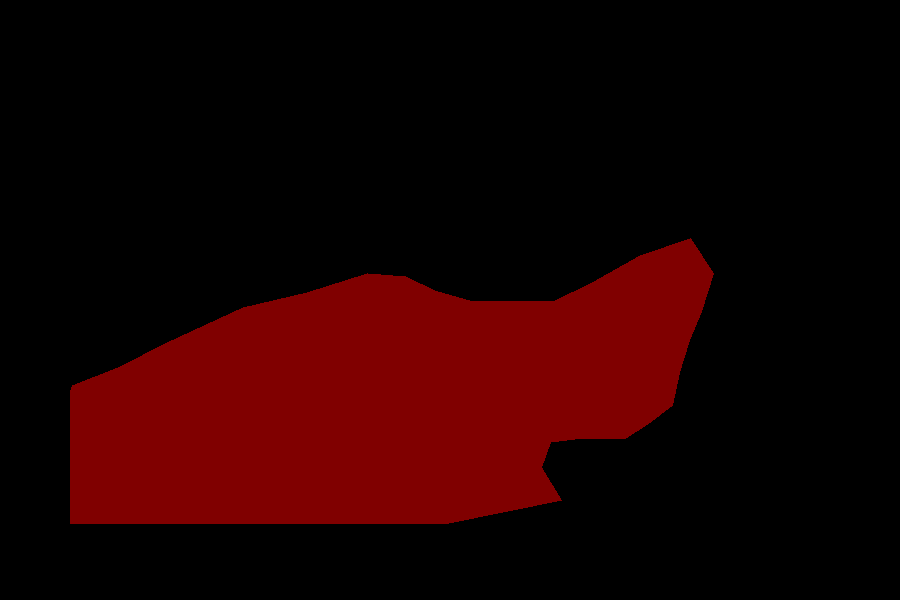fire: (70, 238, 713, 523)
